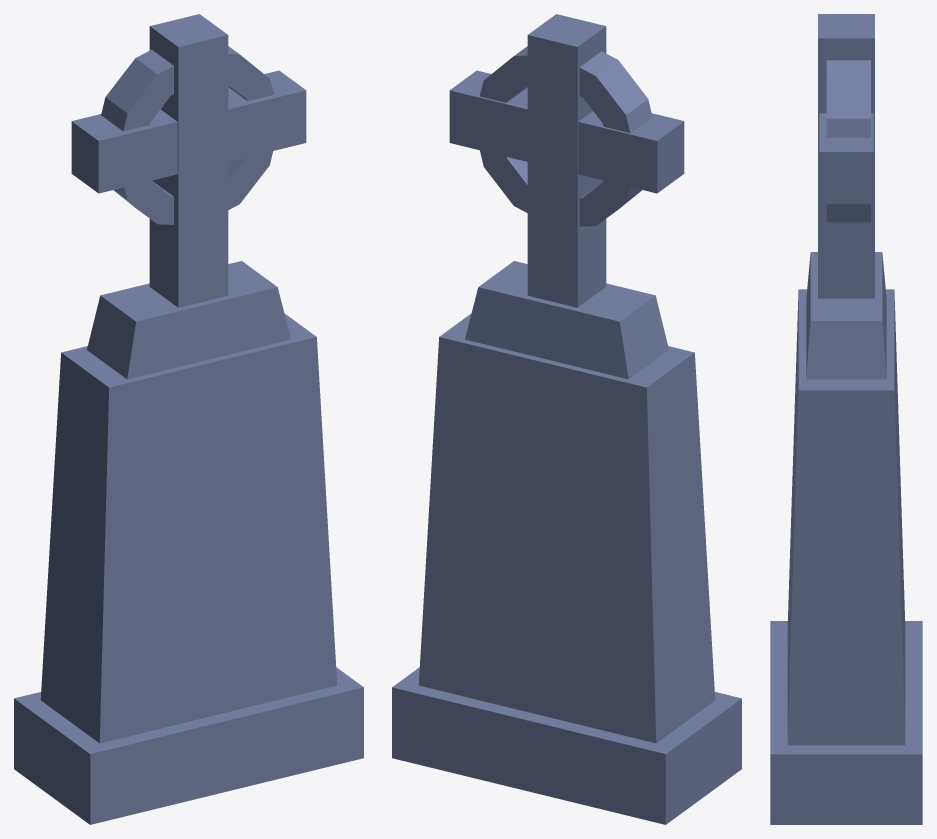
File: Toombstone_03.fbx
The picture shows the model from 3 angles, left to right: view 1: azimuth 30°, elevation 25°; view 2: azimuth 150°, elevation 25°; view 3: azimuth 270°, elevation 25°; orthographic projection.
Parts seen in each view (by area): view 1: Toombstone 3; view 2: Toombstone 3; view 3: Toombstone 3.
Boxes of the visible parts, <box> form: Toombstone 3: <box>14,14,363,824</box>; Toombstone 3: <box>392,14,741,824</box>; Toombstone 3: <box>770,14,922,824</box>.
Size of the model in its own units: 99.3 by 254 by 47.85.
